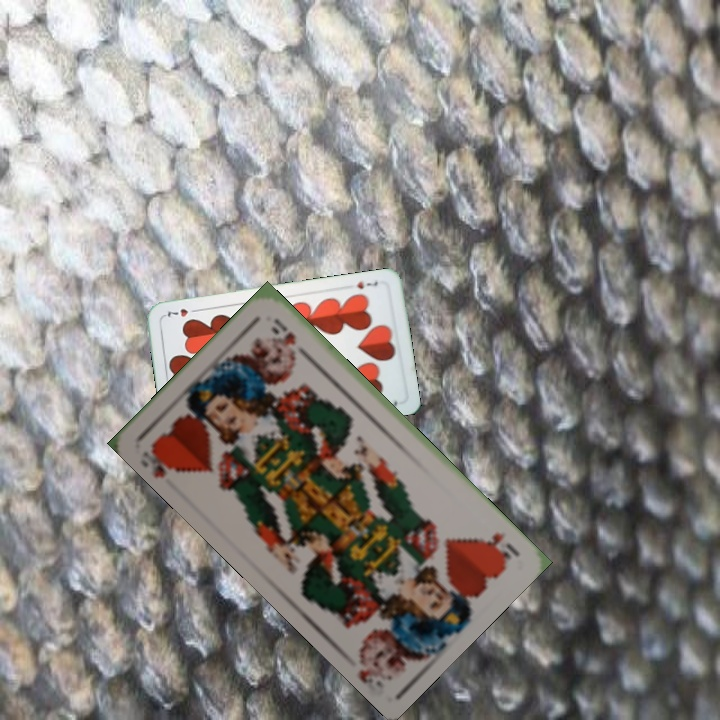H7: (353, 277, 380, 292)
HO: (138, 440, 186, 481), (483, 527, 523, 562)
